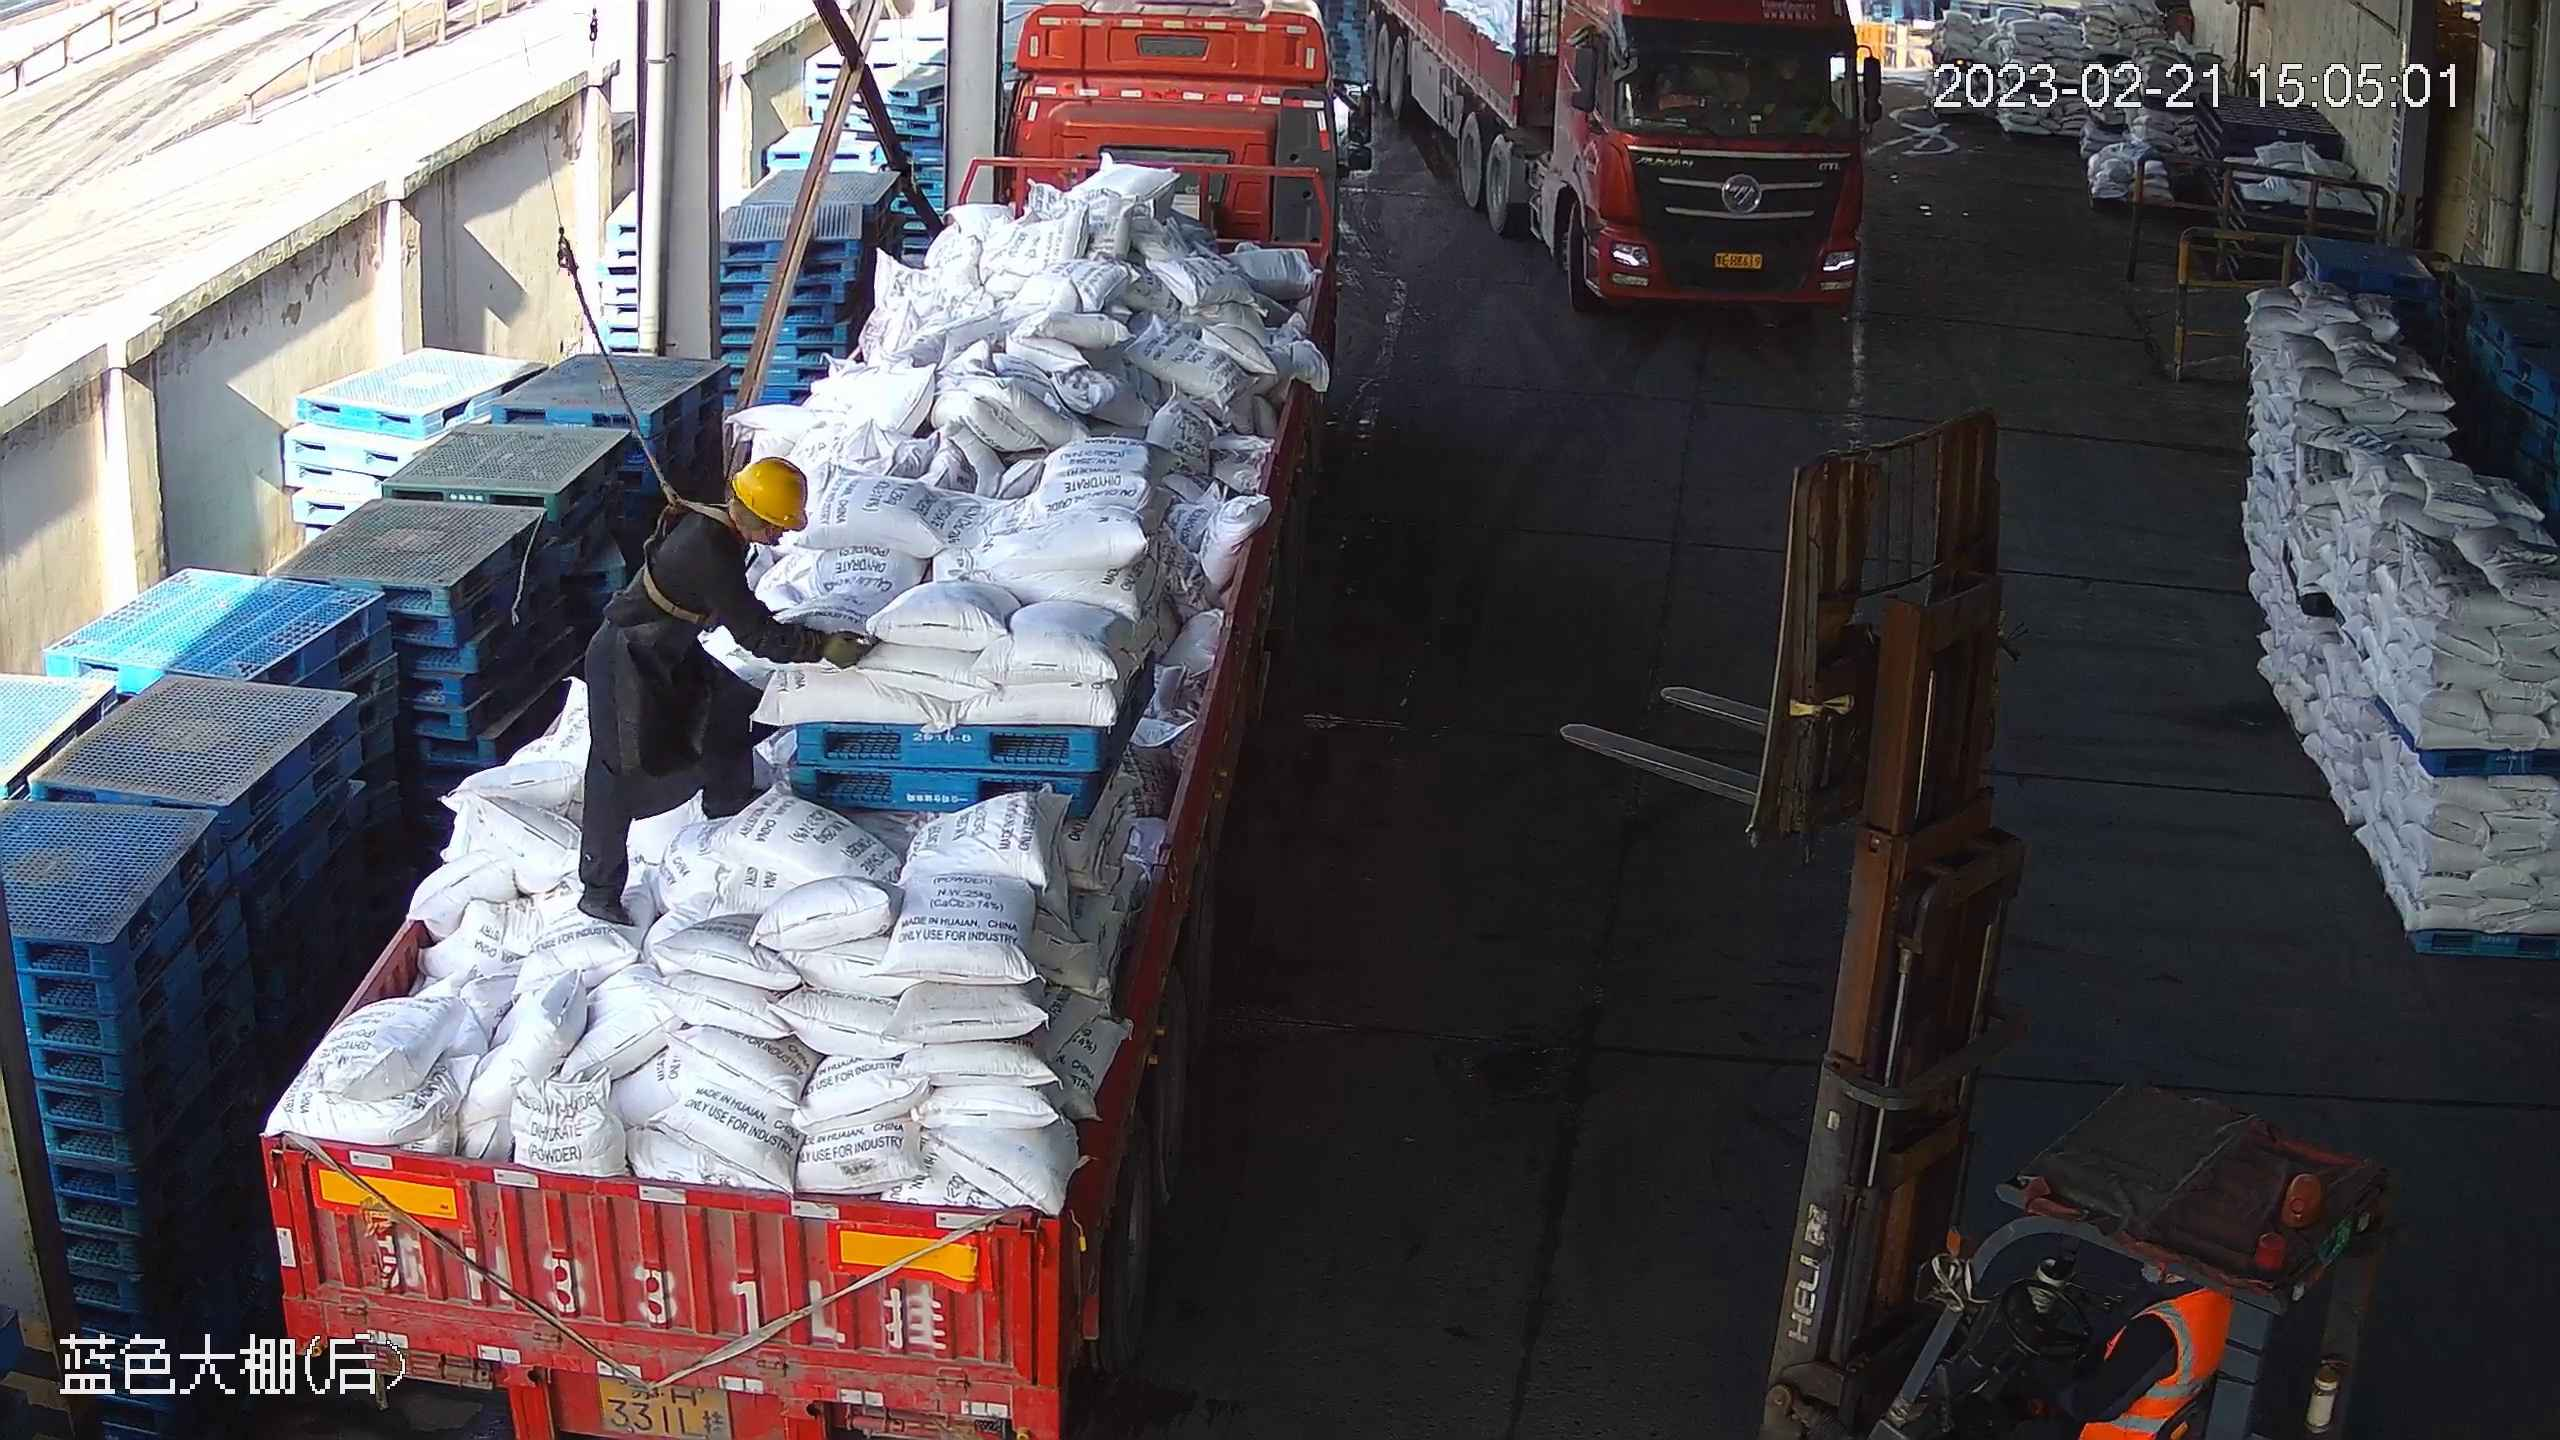belt: (639, 485, 728, 634)
head: (642, 454, 809, 612)
helmet: (732, 457, 808, 531)
people: (576, 457, 869, 927)
truck: (257, 1, 1371, 1433), (1371, 1, 1890, 328)
